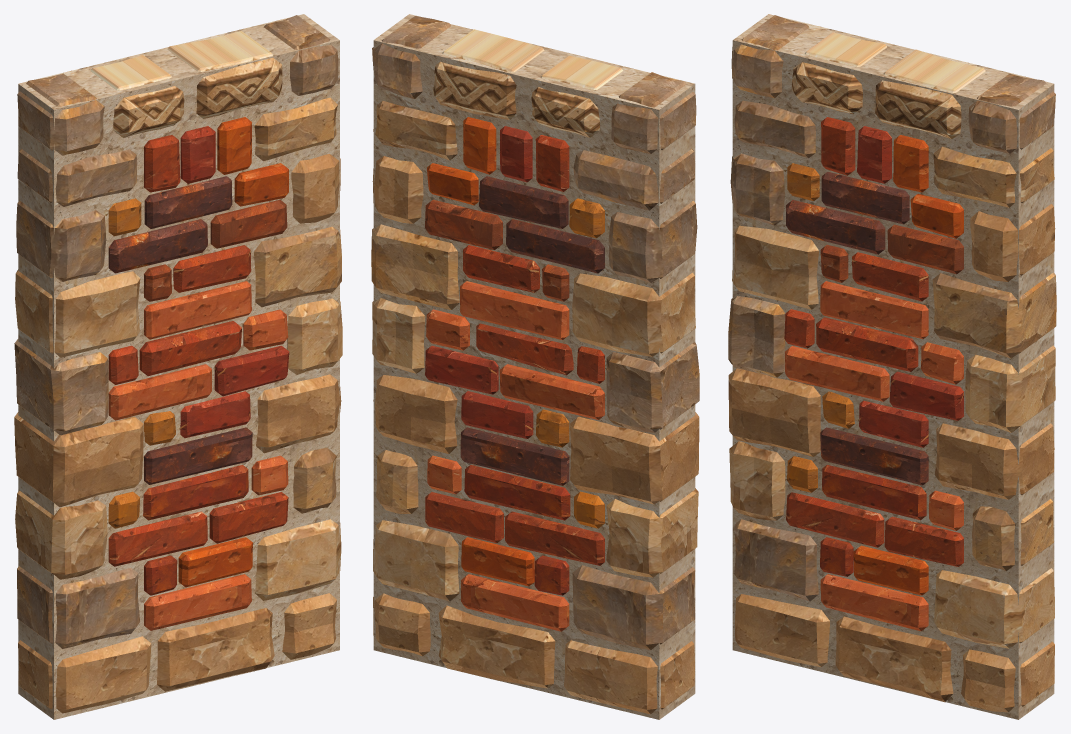
File: wall_narrow__clay_brick.glb
The picture shows the model from 3 angles, left to right: view 1: azimuth 30°, elevation 25°; view 2: azimuth 150°, elevation 25°; view 3: azimuth 330°, elevation 25°; orthographic projection.
Visible parts, largest first — view 1: model; view 2: model; view 3: model.
Part boxes in pixels (x1,y1,x2,y2): model: [14, 14, 342, 719]; model: [371, 14, 699, 719]; model: [728, 14, 1056, 719].
Bounding box in the file's own units: 0.984 × 1.98 × 0.2828.
Materials: 14 (14 with a texture image).
